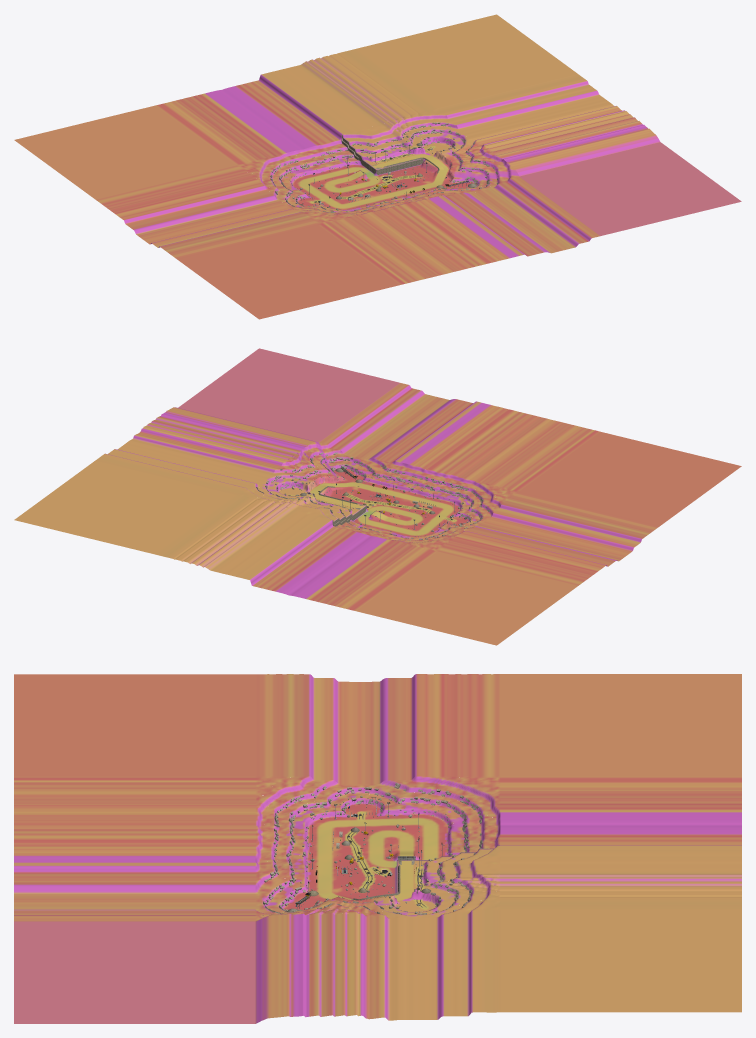
The model's file is quarry.glb.
The picture shows the model from 3 angles, top to bottom: view 1: azimuth 30°, elevation 25°; view 2: azimuth 150°, elevation 25°; view 3: azimuth 270°, elevation 25°; orthographic projection. The views are drawn at different scales.
Parts seen in each view (by area): view 1: Weite_2, Gelaende, Weite_3, Weite_1, Weite_0, Weite_E1, Weite_E2, Weite_E3, Weite_E0; view 2: Weite_2, Weite_3, Gelaende, Weite_0, Weite_E1, Weite_E0, Weite_E2, Weite_E3, Weite_1; view 3: Weite_3, Weite_2, Gelaende, Weite_1, Weite_0, Weite_E0, Weite_E1, Weite_E2, Weite_E3.
Part boxes in pixels (x1=…): Weite_2: x1=155, y1=49, x2=436, y2=164; Gelaende: x1=236, y1=108, x2=519, y2=225; Weite_3: x1=319, y1=176, x2=600, y2=284; Weite_1: x1=437, y1=74, x2=660, y2=176; Weite_0: x1=95, y1=165, x2=318, y2=259; Weite_E1: x1=356, y1=14, x2=577, y2=108; Weite_E2: x1=178, y1=225, x2=399, y2=319; Weite_E3: x1=520, y1=142, x2=741, y2=235; Weite_E0: x1=14, y1=105, x2=235, y2=199; Weite_2: x1=155, y1=495, x2=436, y2=610; Weite_3: x1=319, y1=383, x2=600, y2=491; Gelaende: x1=236, y1=441, x2=519, y2=551; Weite_0: x1=437, y1=491, x2=660, y2=585; Weite_E1: x1=14, y1=460, x2=235, y2=554; Weite_E0: x1=356, y1=551, x2=577, y2=645; Weite_E2: x1=520, y1=432, x2=741, y2=525; Weite_E3: x1=178, y1=348, x2=399, y2=442; Weite_1: x1=95, y1=407, x2=315, y2=494; Weite_3: x1=14, y1=776, x2=255, y2=921; Weite_2: x1=500, y1=776, x2=741, y2=910; Gelaende: x1=255, y1=776, x2=500, y2=921; Weite_1: x1=255, y1=910, x2=500, y2=1023; Weite_0: x1=255, y1=674, x2=500, y2=783; Weite_E0: x1=500, y1=674, x2=741, y2=776; Weite_E1: x1=500, y1=910, x2=741, y2=1012; Weite_E2: x1=14, y1=674, x2=255, y2=776; Weite_E3: x1=14, y1=921, x2=255, y2=1023.
Size of the model in its own units: 548 by 20.78 by 482.
Materials: 12 (3 with a texture image).
